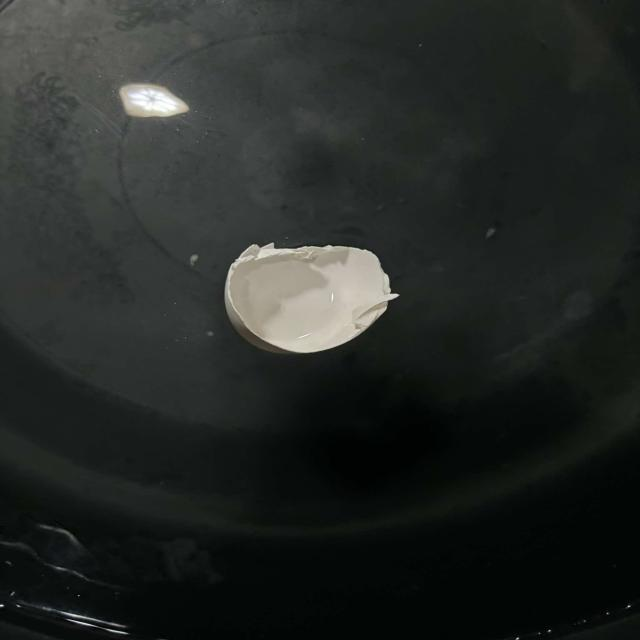Eggshell: (175, 214, 432, 378)
